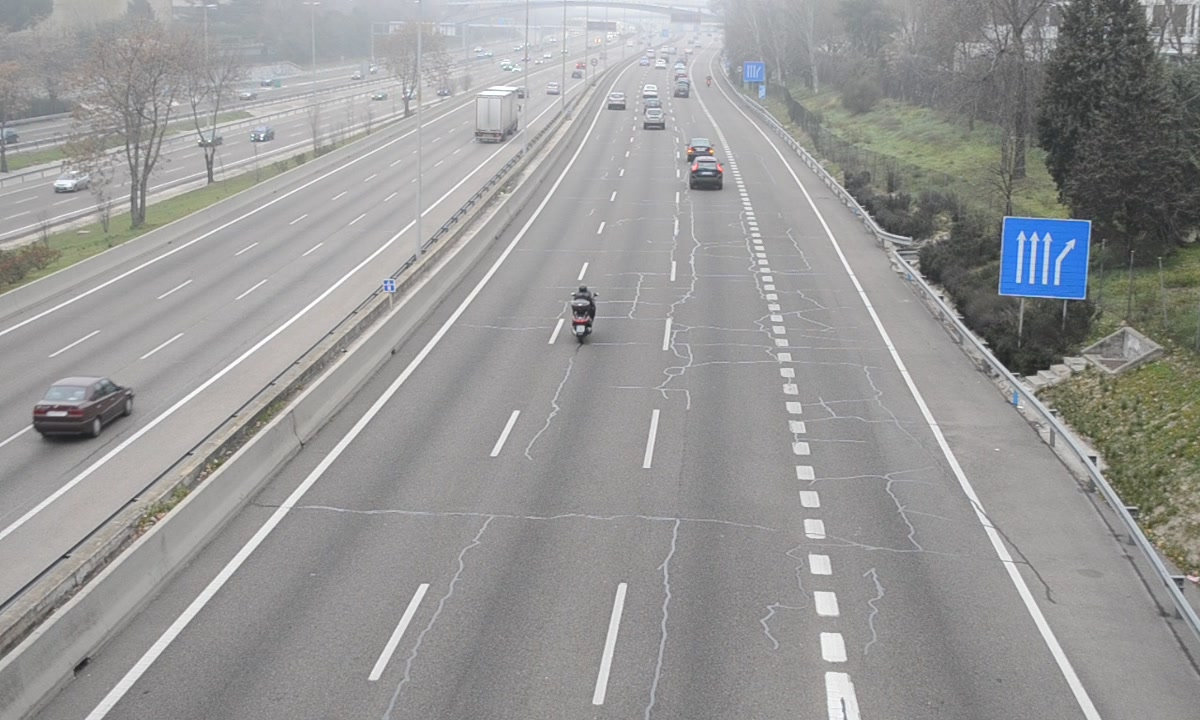car: (689, 157, 722, 187), (687, 138, 714, 159)
motorcycle: (568, 283, 597, 346)
